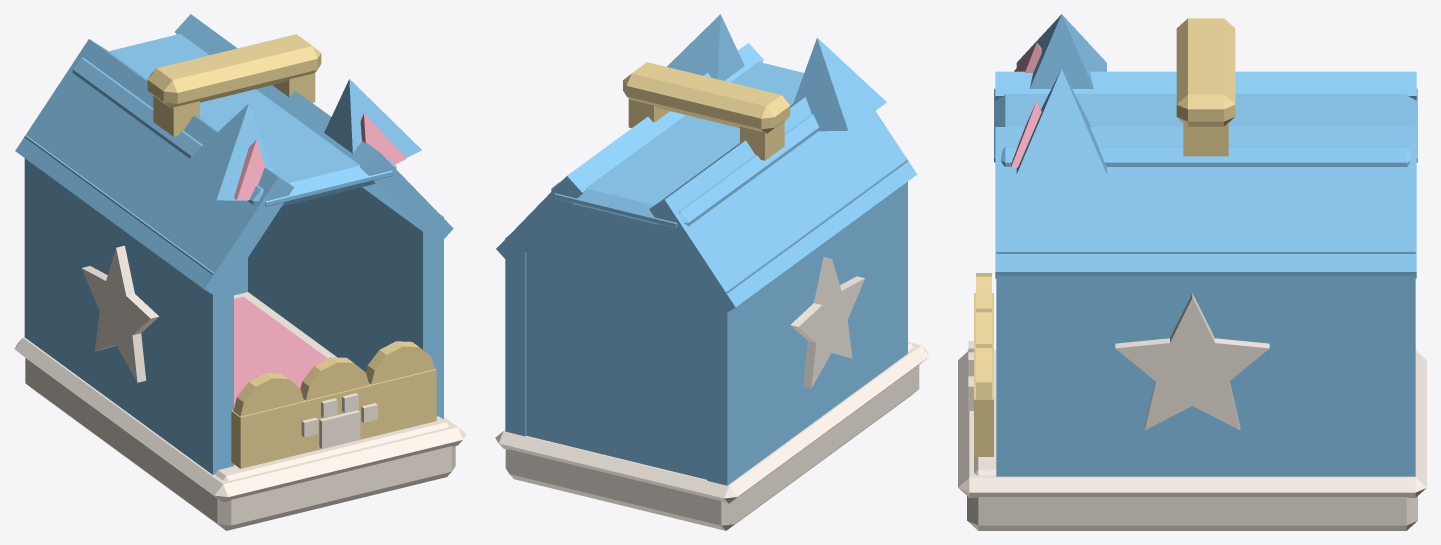
Rendered from CleanACat_Prop_CarrierSky.fbx.
The picture shows the model from 3 angles, left to right: view 1: azimuth 30°, elevation 25°; view 2: azimuth 150°, elevation 25°; view 3: azimuth 270°, elevation 25°; orthographic projection. The views are drawn at different scales.
Parts seen in each view (by area): view 1: CleanACat_Prop_CarrierSky, CleanACat_Prop_CarrierSky_Door_Swing; view 2: CleanACat_Prop_CarrierSky; view 3: CleanACat_Prop_CarrierSky, CleanACat_Prop_CarrierSky_Door_Swing.
Boxes of the visible parts, bbox=[...] form: CleanACat_Prop_CarrierSky: bbox=[14, 14, 466, 530]; CleanACat_Prop_CarrierSky_Door_Swing: bbox=[231, 341, 436, 468]; CleanACat_Prop_CarrierSky: bbox=[495, 14, 929, 530]; CleanACat_Prop_CarrierSky: bbox=[958, 14, 1426, 530]; CleanACat_Prop_CarrierSky_Door_Swing: bbox=[968, 273, 993, 456].
Size of the model in its own units: 1.44 by 2.1 by 2.08.
1 material, 1 textured.
